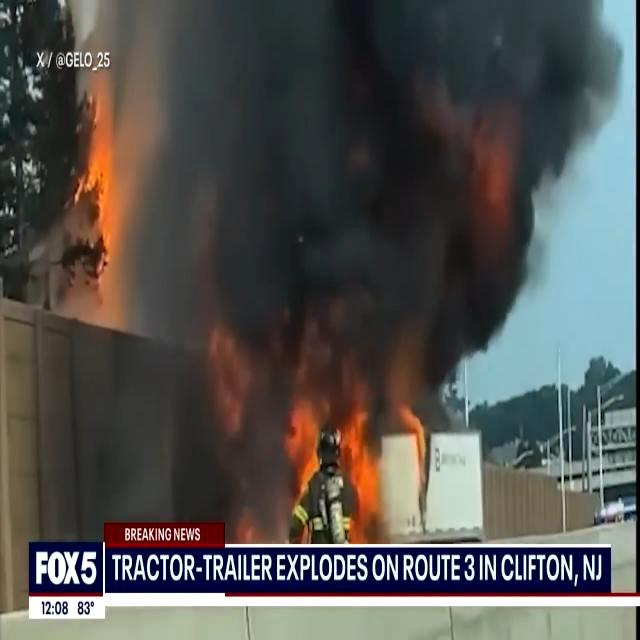fire: (70, 108, 126, 278), (278, 400, 318, 488), (356, 434, 392, 510)
